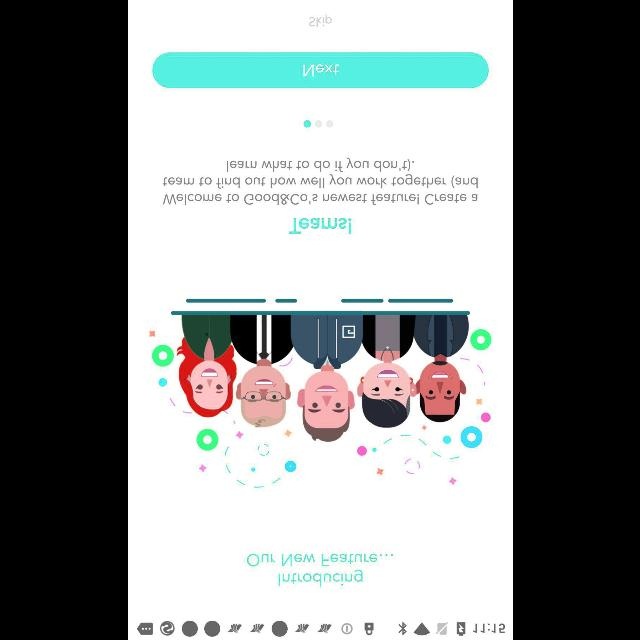image: (148, 298, 490, 488)
pageindicator: (303, 120, 333, 128)
text: (162, 158, 476, 206), (246, 554, 392, 586), (288, 218, 350, 234), (308, 15, 332, 27)
textbutton: (152, 52, 488, 88)
uppertaskbar: (128, 617, 512, 639)
